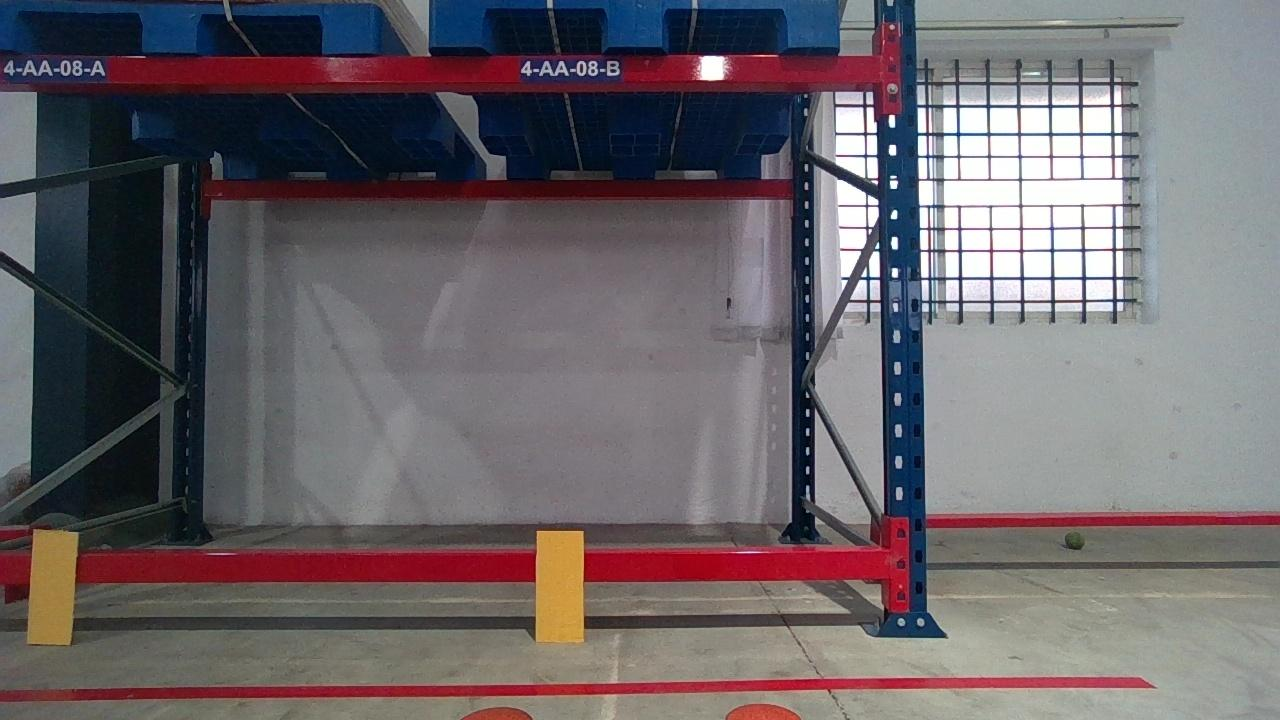h_rack: (2, 51, 1037, 85), (4, 548, 891, 583)
orange_strip: (28, 528, 79, 641), (534, 529, 584, 642)
red_line: (2, 674, 1155, 701)
small_pallet: (423, 0, 844, 49), (1, 1, 378, 52)
